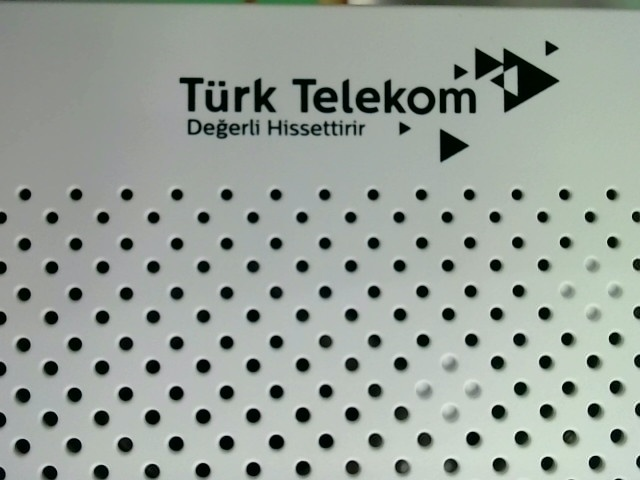AQ_TURKTelekom: (175, 25, 572, 167)
